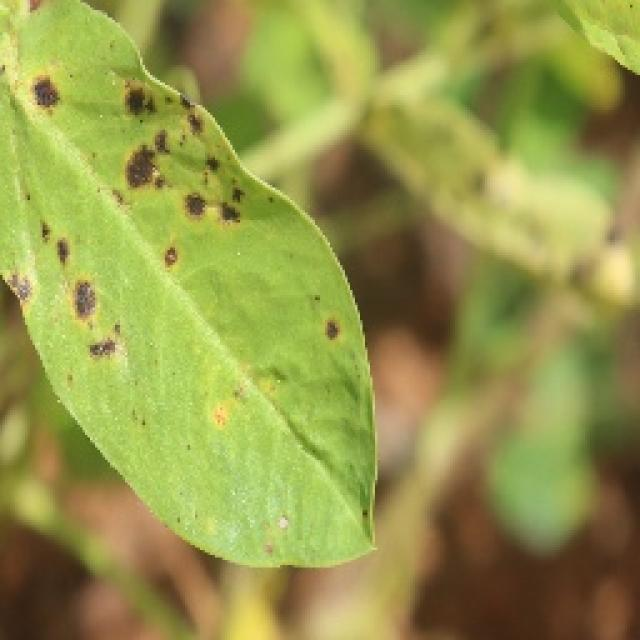Yellowish: (0, 35, 390, 520)
